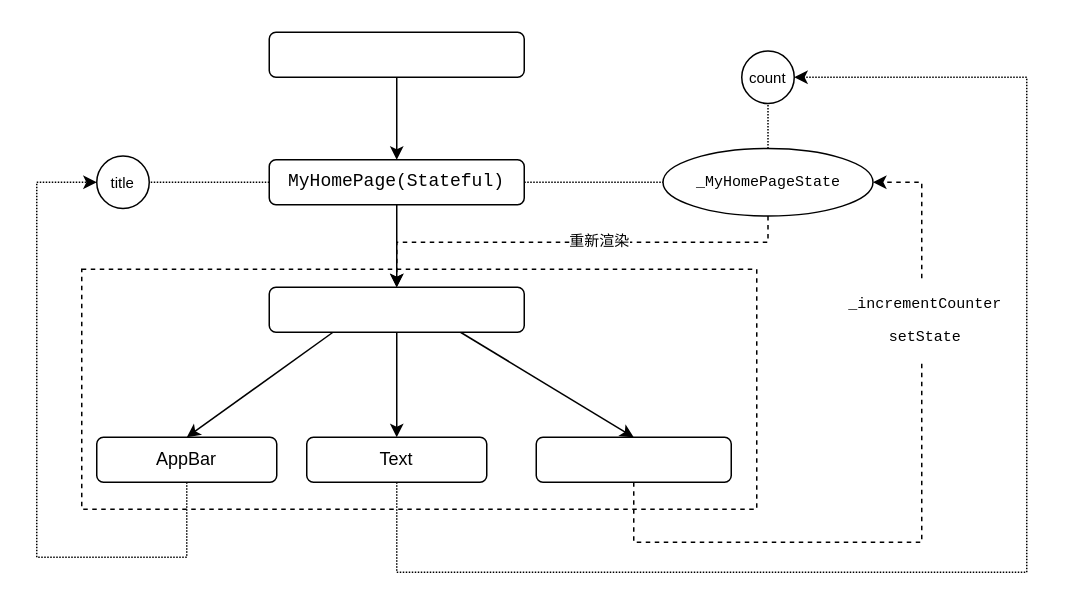
This 1065x611 diagram has some shape labels left out. Each missing label, with the centre of its shape:
FloatingAction Button: (633,459)
MyApp(Stateless): (396,54)
Scaffold: (396,309)
